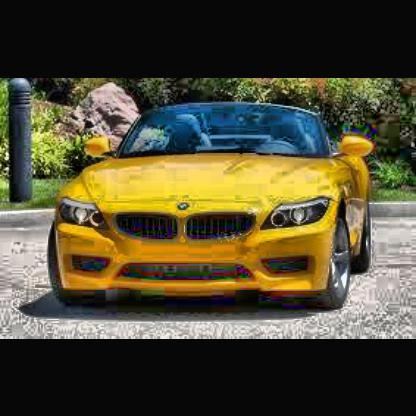BMW Z4 Convertible 2012: (51, 106, 374, 311)
